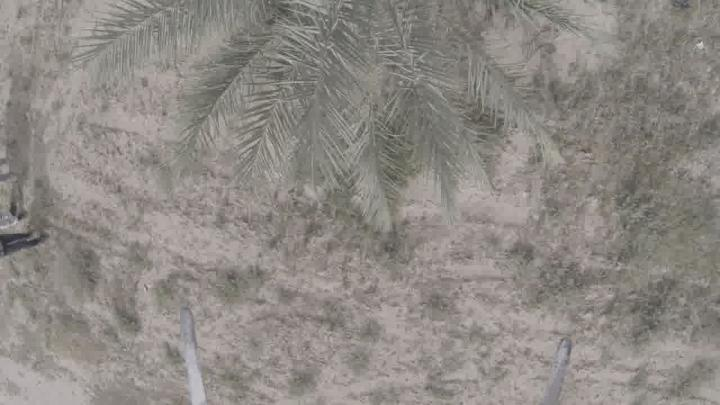Date-Palm-Crown: (198, 1, 483, 136)
